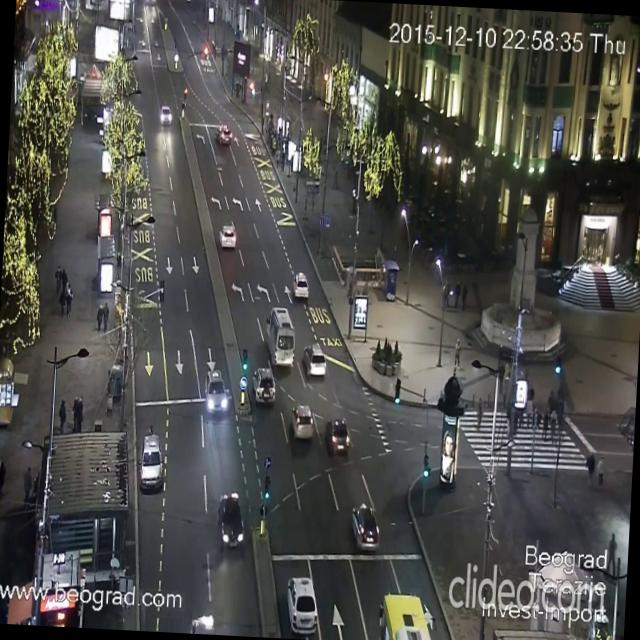bus: (266, 308, 294, 366)
car: (377, 591, 436, 640), (284, 576, 320, 636), (216, 490, 247, 552), (138, 432, 166, 492), (349, 502, 381, 552), (204, 369, 232, 416), (251, 364, 277, 406), (324, 416, 351, 456), (302, 342, 328, 378), (290, 402, 314, 440), (190, 612, 216, 634), (292, 271, 310, 299), (218, 224, 236, 249), (214, 123, 233, 145), (158, 105, 172, 125)
